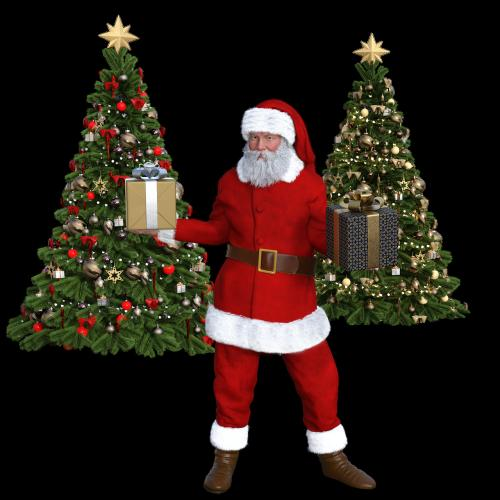Santa: (154, 97, 378, 493)
